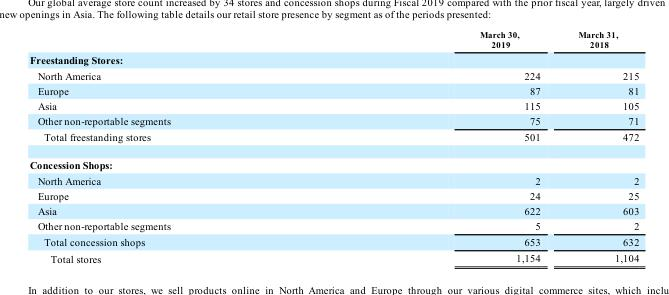table: (28, 29, 638, 264)
table column: (28, 29, 324, 264), (324, 29, 558, 264), (558, 29, 638, 264)
table column header: (28, 29, 638, 51)
table projected row header: (28, 150, 638, 172), (28, 51, 638, 67)
table row: (28, 29, 638, 51), (28, 128, 638, 150), (28, 150, 638, 172), (28, 51, 638, 67), (28, 97, 638, 113), (28, 202, 638, 218), (28, 233, 638, 249), (28, 67, 638, 82), (28, 82, 638, 97), (28, 113, 638, 128), (28, 172, 638, 187), (28, 187, 638, 202), (28, 218, 638, 233), (28, 249, 638, 264)
